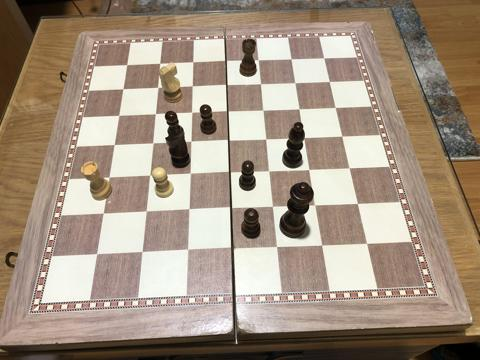xcorner: (319, 54, 331, 66), (287, 55, 299, 67), (254, 56, 266, 68), (222, 57, 234, 69), (189, 58, 201, 70), (156, 60, 168, 72), (123, 61, 135, 73), (325, 77, 337, 89), (291, 79, 303, 91), (257, 80, 269, 92), (223, 81, 235, 93), (188, 82, 200, 94), (154, 84, 166, 96), (119, 85, 131, 97), (331, 103, 343, 115), (295, 104, 307, 116), (259, 106, 271, 118), (223, 107, 235, 119), (187, 108, 199, 120), (151, 110, 163, 122), (115, 111, 127, 123), (337, 132, 349, 144), (300, 133, 312, 145), (262, 135, 274, 147), (224, 136, 236, 148), (187, 137, 199, 149), (149, 139, 161, 151), (110, 140, 122, 152), (345, 163, 357, 175), (305, 165, 317, 177), (265, 166, 277, 178), (226, 168, 238, 180), (186, 170, 198, 182), (145, 171, 157, 183), (105, 173, 117, 185), (353, 199, 365, 211), (311, 200, 323, 212), (269, 202, 281, 214), (227, 204, 239, 216), (184, 206, 196, 218), (142, 207, 154, 219), (99, 209, 111, 221), (362, 238, 374, 250), (318, 240, 330, 252), (273, 242, 285, 254), (228, 244, 240, 256), (183, 246, 195, 258), (138, 248, 150, 260), (93, 250, 105, 262)
